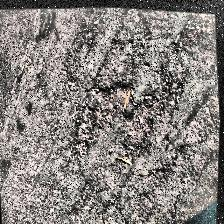pothole: (63, 62, 184, 180)
